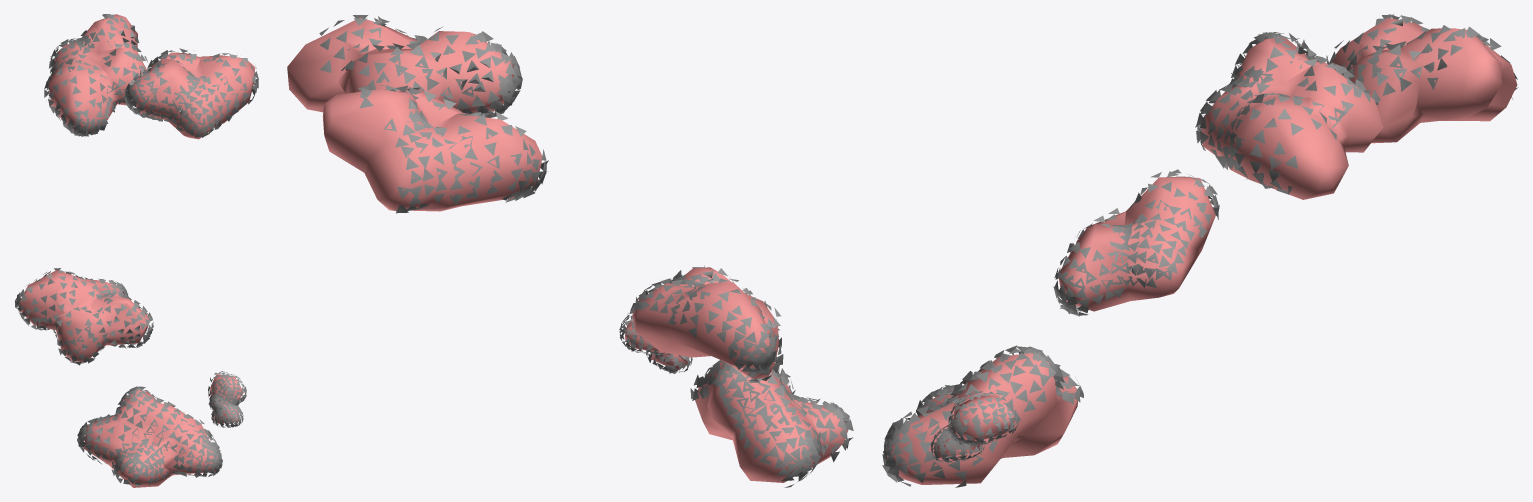
File: SM_ENV_LKNVLD_TreeSet_Q_Lod3.gltf
3 views of the same model, side by side, from view 1: azimuth 30°, elevation 25°; view 2: azimuth 150°, elevation 25°; view 3: azimuth 270°, elevation 25° (orthographic). The views are drawn at different scales.
Parts seen in each view (by area): view 1: SM_ENV_LKNVLD_TreeSet_Q_Lod3; view 2: SM_ENV_LKNVLD_TreeSet_Q_Lod3; view 3: SM_ENV_LKNVLD_TreeSet_Q_Lod3.
Part boxes in pixels (bbox=[...]): SM_ENV_LKNVLD_TreeSet_Q_Lod3: bbox=[15, 14, 258, 487]; SM_ENV_LKNVLD_TreeSet_Q_Lod3: bbox=[287, 15, 853, 487]; SM_ENV_LKNVLD_TreeSet_Q_Lod3: bbox=[882, 14, 1518, 487].
Size of the model in its own units: 29.6 by 34.07 by 37.05.
